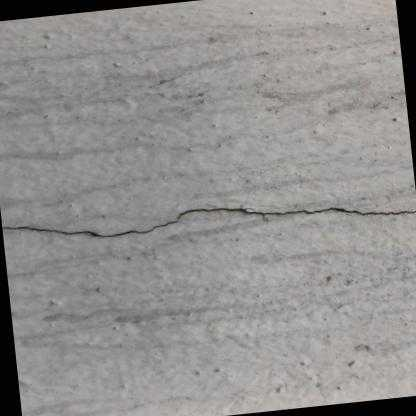crack: (1, 207, 416, 237)
